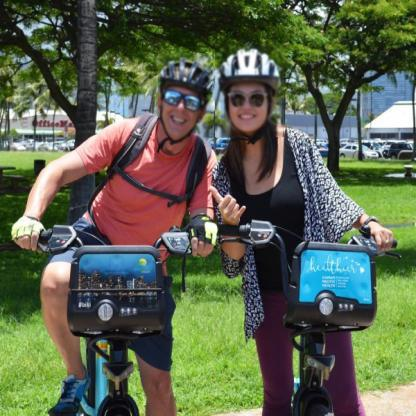Helmet: (148, 54, 217, 144), (218, 47, 282, 140)
